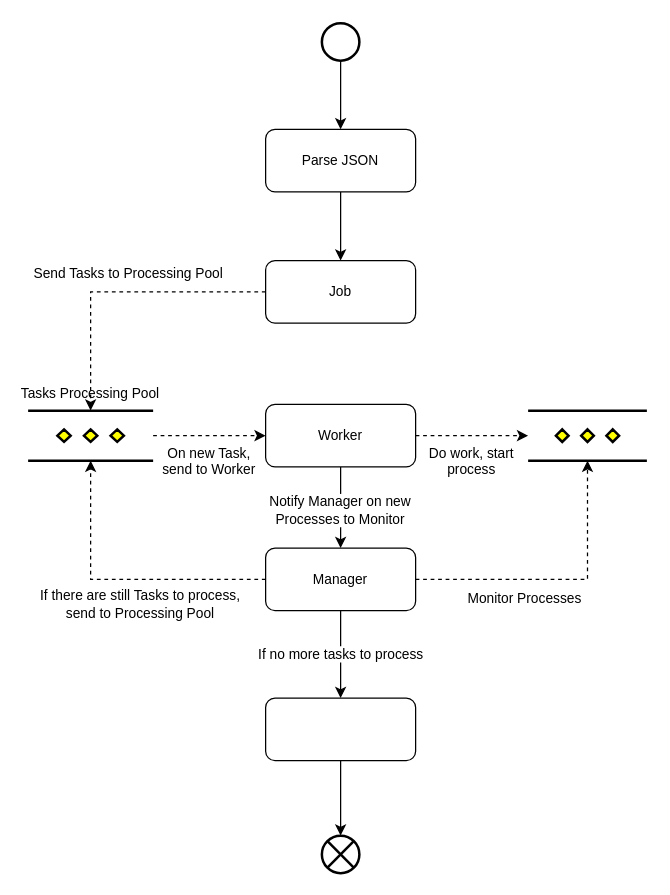
This 670x895 diagram has some shape labels left out. The box of each missing label's shape, as (x1, y1, x2, y2) in pixels:
Cleanup: (264, 697, 416, 761)
Processes: (526, 409, 648, 461)
